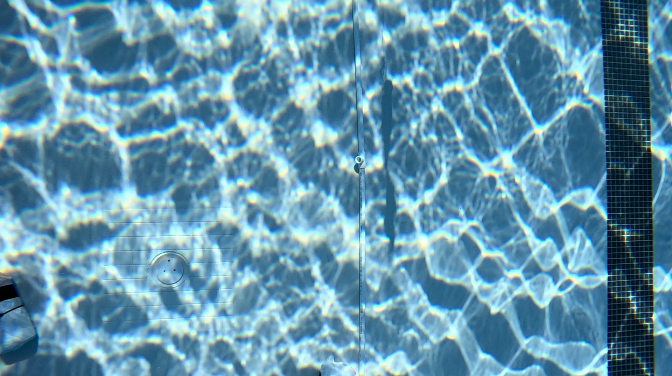sandbag: (0, 271, 36, 354)
